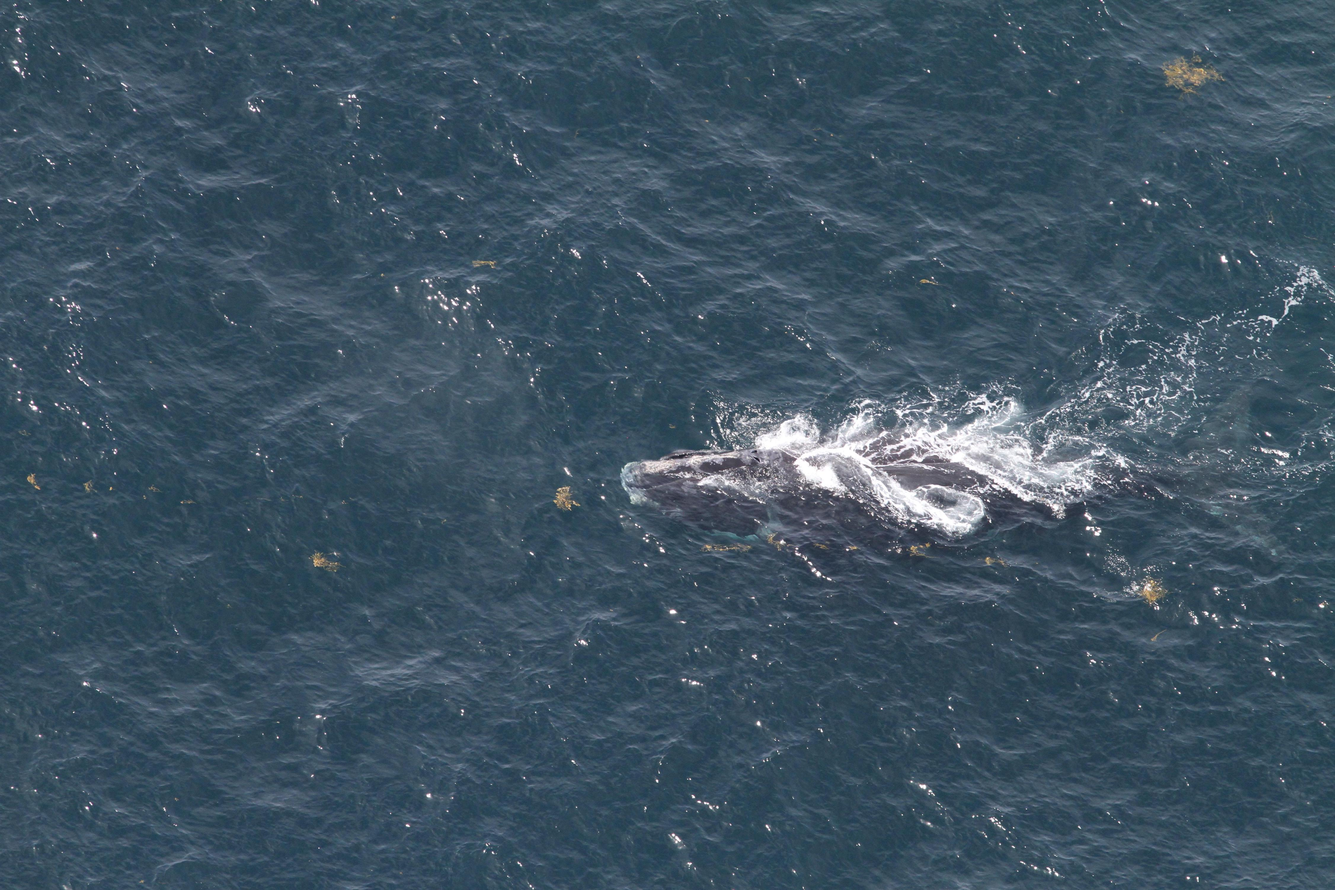whale: (615, 360, 1308, 573)
